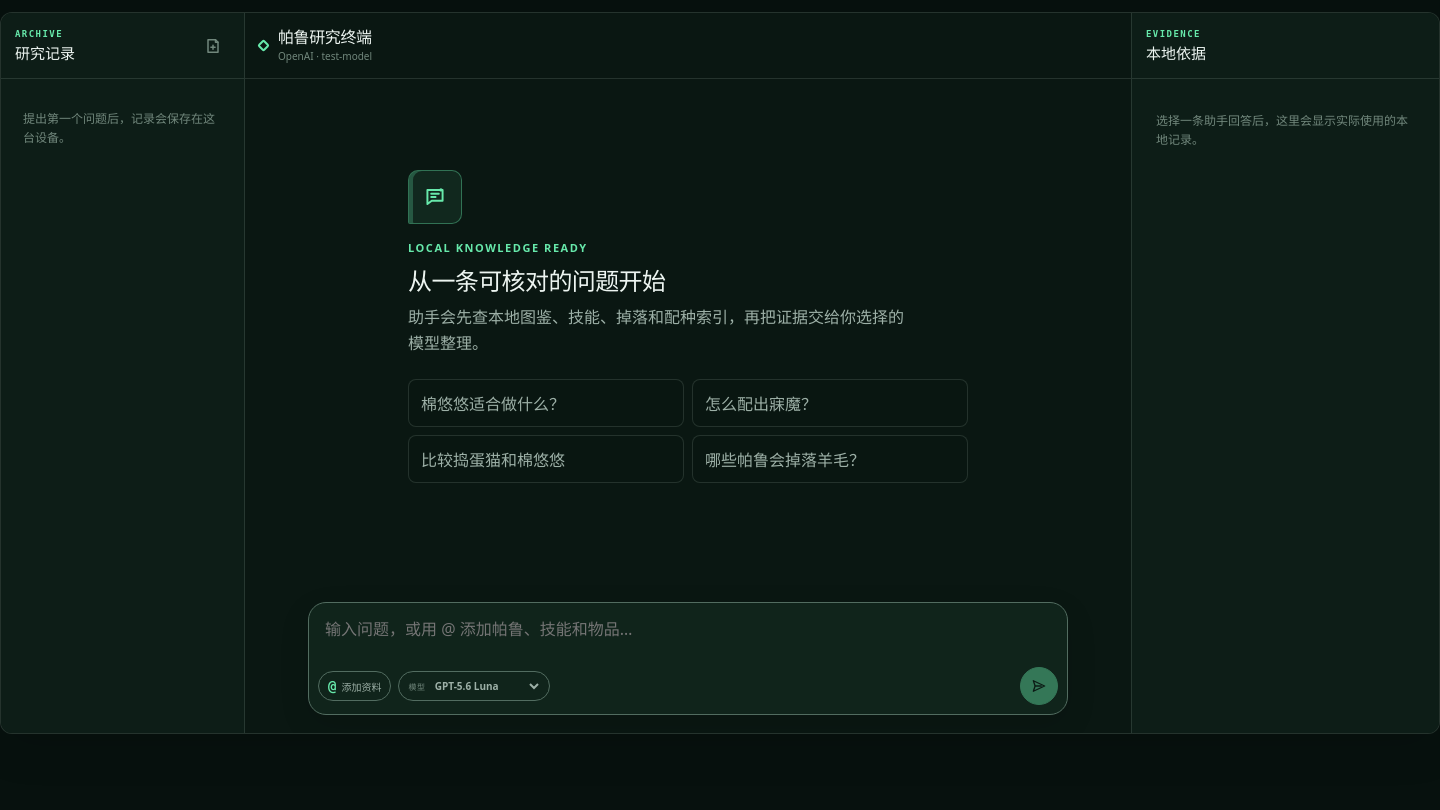
Test: AssistantPage › ignores an old archive failure after StrictMode recreates the repository
The image size is (1440, 810).
In the text box named "向帕鲁助手提问": (688, 629) [309,603,1067,655], type "棉悠悠资料"
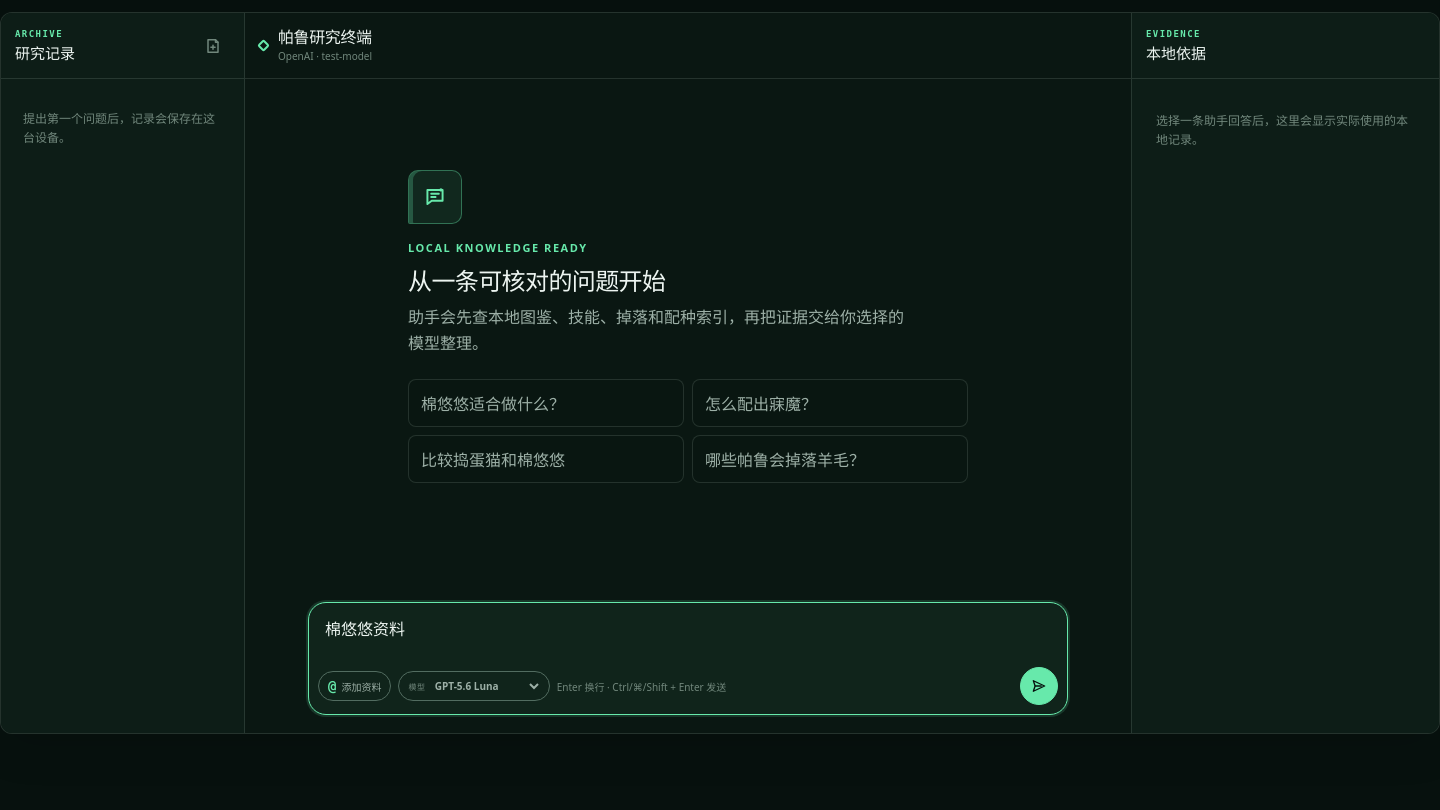
Click the button named "发送": (1039, 686) [1020,667,1058,705]
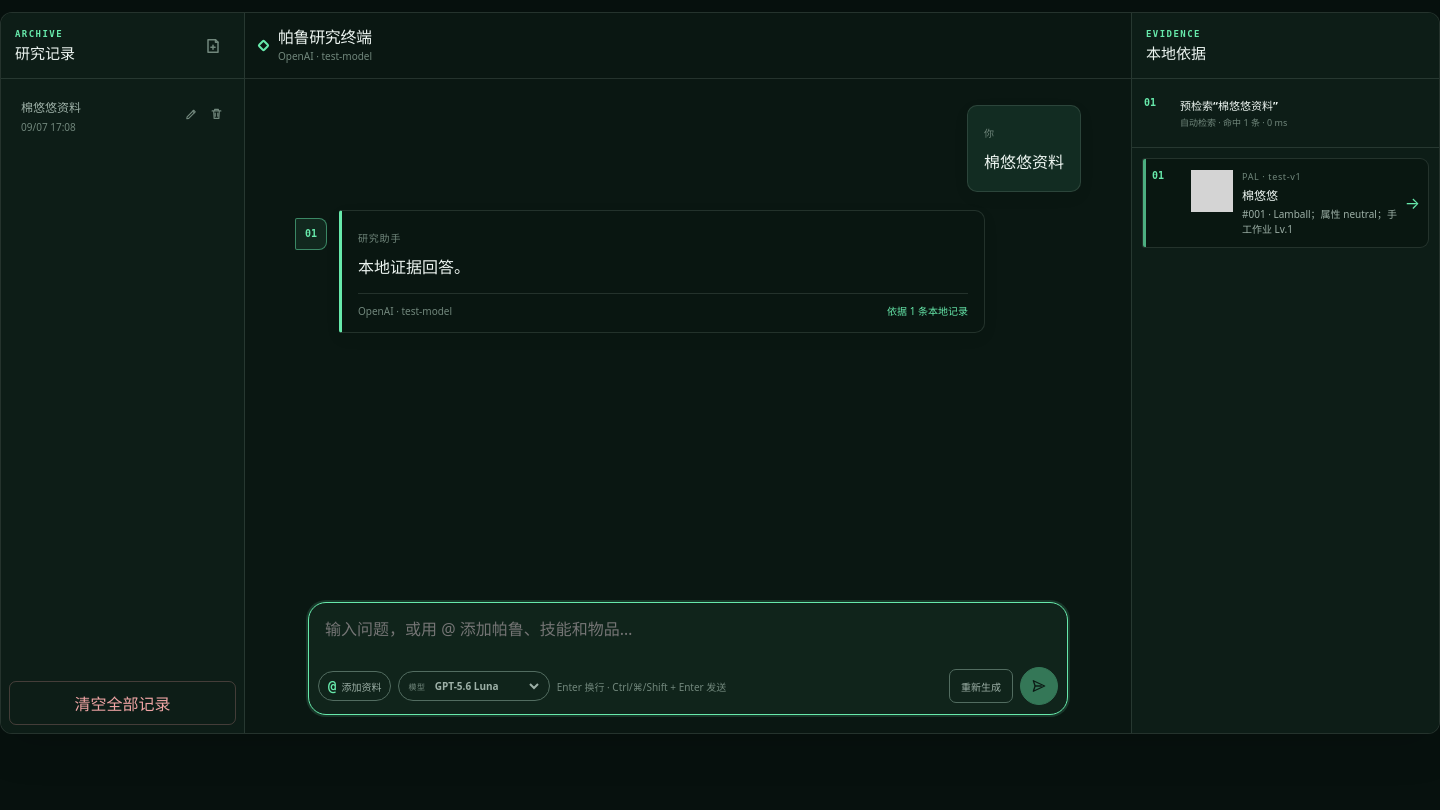
Expected: the text "本地证据回答。" is shown, [358,256,470,278]
